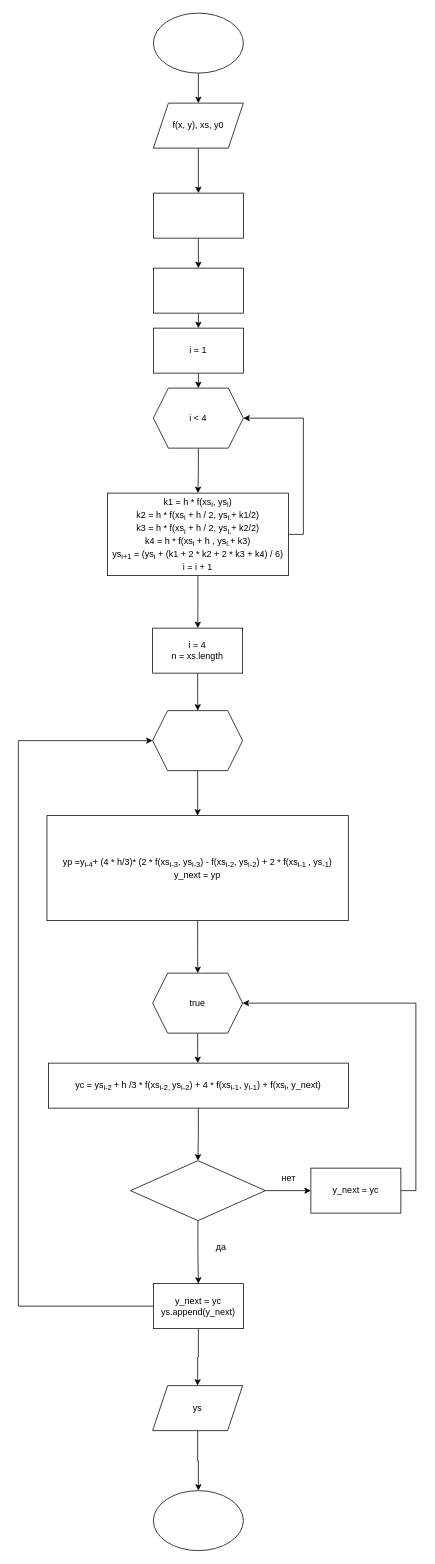
This 435x1564 diagram has some shape labels left out. The centre of each missing label's shape, as x and y in pixels:
h = xs 1 -xs 0: [198,215]
i < n: [197,740]
ys = [] ys 0 = y0: [198,290]
| yc - y_next | < eps: [197,1190]
Конец: [198,1520]
Начало: [198,42]
